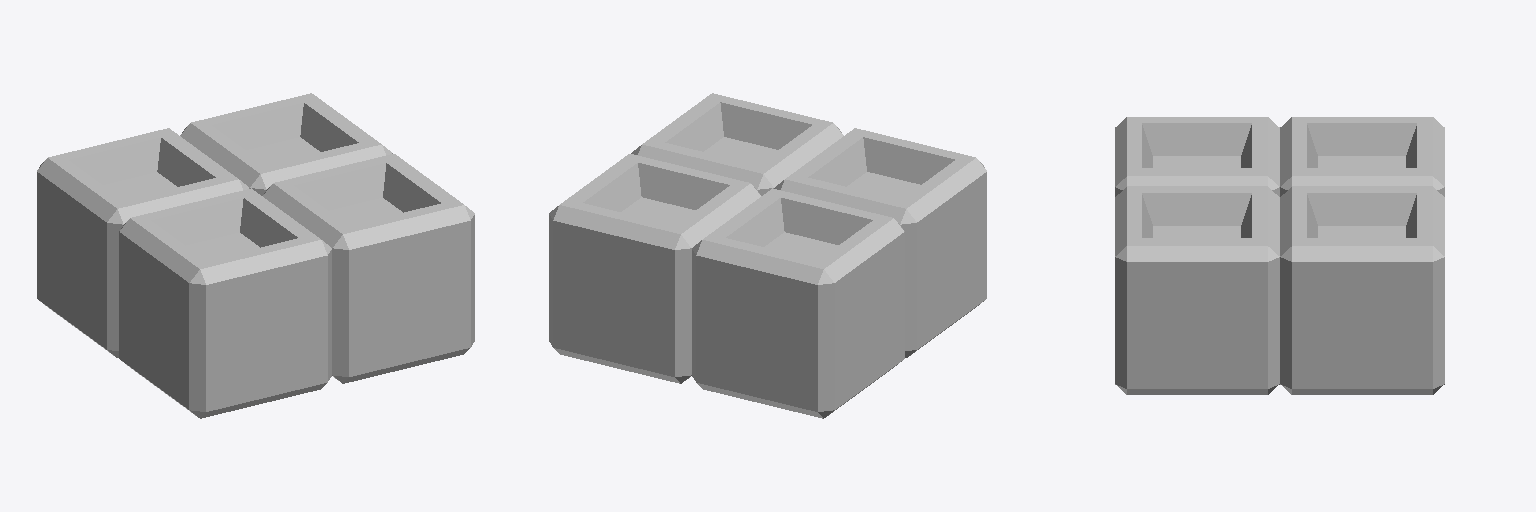
Rendered from block03.obj.
3 renders of one model, left to right at view 1: azimuth 30°, elevation 25°; view 2: azimuth 150°, elevation 25°; view 3: azimuth 270°, elevation 25°, orthographic.
Visible parts, largest first — view 1: Cube.001_Cube.019; view 2: Cube.001_Cube.019; view 3: Cube.001_Cube.019.
Part boxes in pixels (left/top/right/bottom): Cube.001_Cube.019: left=37, top=93, right=474, bottom=418; Cube.001_Cube.019: left=549, top=93, right=986, bottom=418; Cube.001_Cube.019: left=1115, top=117, right=1444, bottom=394.
Size of the model in its own units: 9.9 by 4.95 by 9.9.